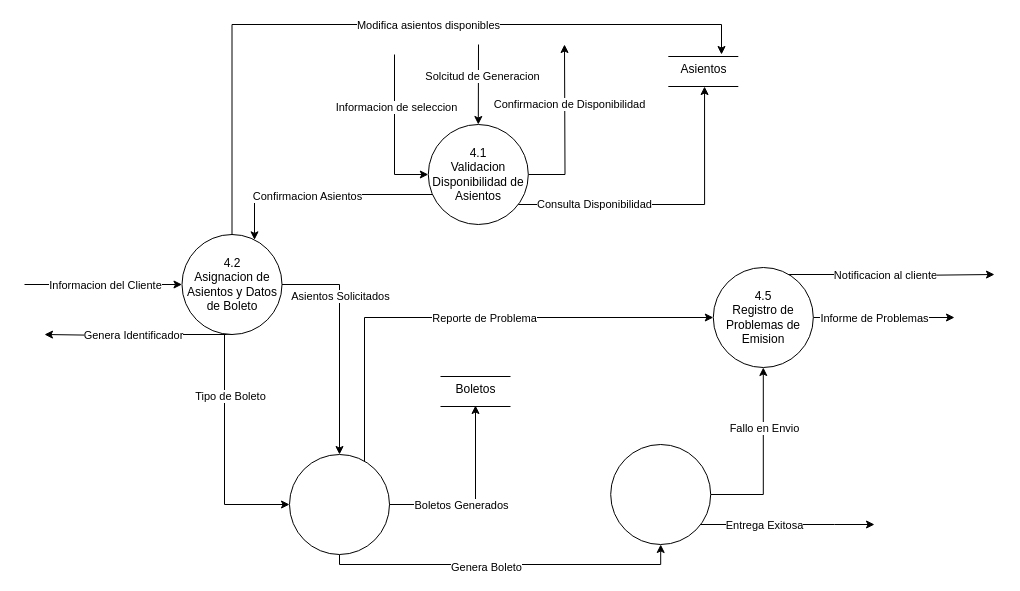
Image size: 1020x591. Some labels were removed from this diagram. The centre of each missing label's shape, as x and y in pixels:
"4.3 Generacion de Boleto" goes at (339,504).
"4.4 Envio de Boleto" goes at (660,494).
